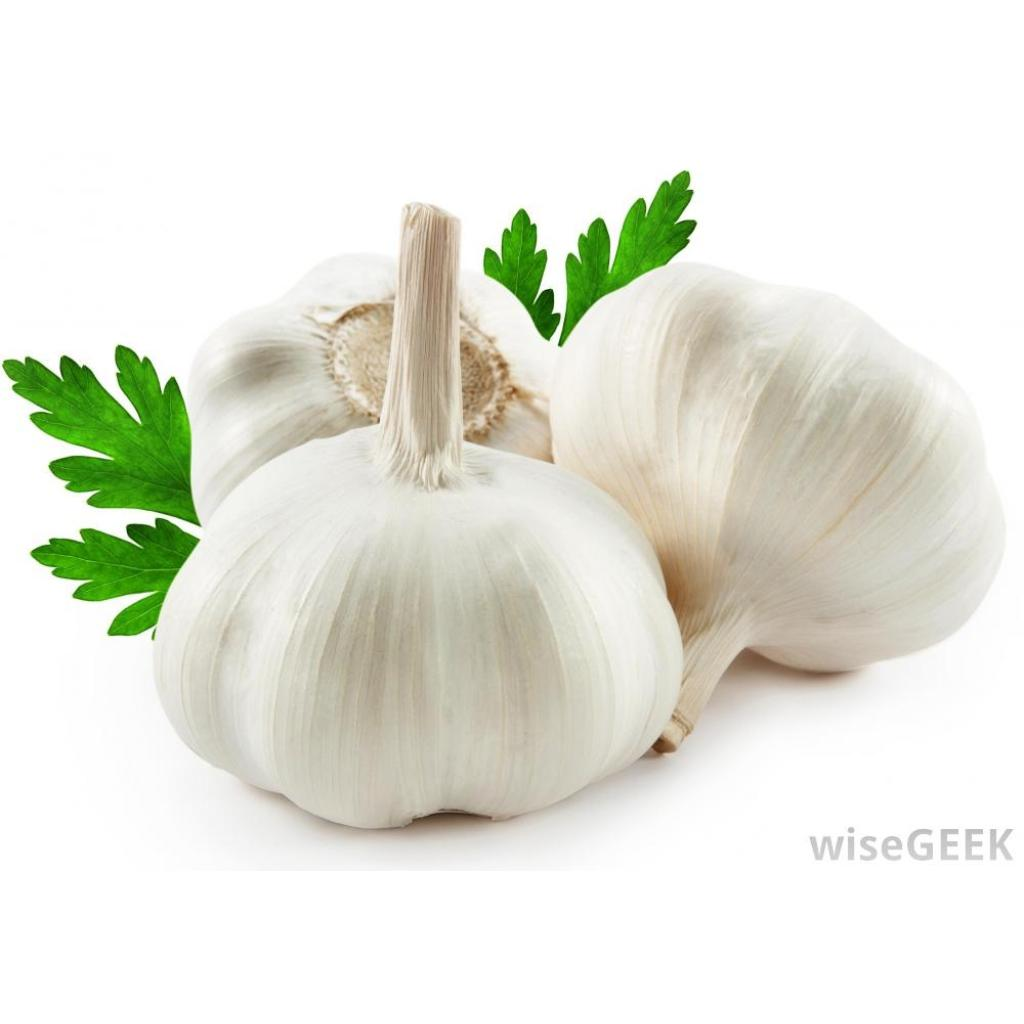garlic: (155, 203, 680, 826), (550, 262, 1001, 749), (187, 252, 394, 522), (459, 269, 554, 458)
